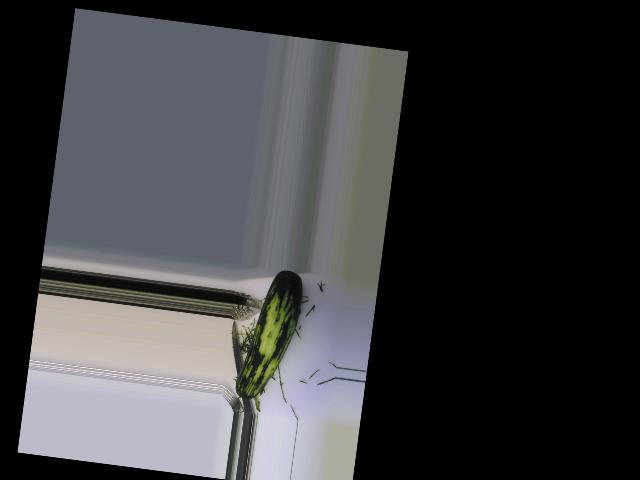cucumber: (234, 266, 305, 405)
